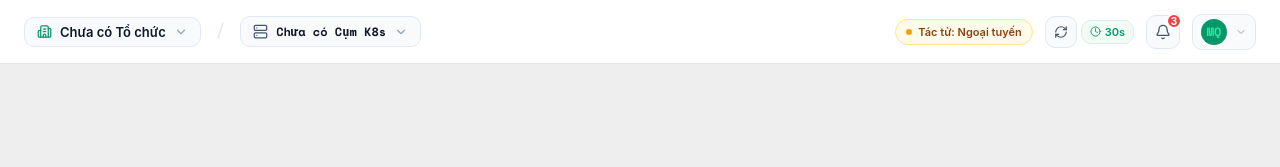
TASK [S2][PB07] 3.1 — Organization Switcher Suite › 3. TopHeader Dropdown UI & Keyboard (Phase 2) › 3.2. Closes dropdown when Escape key is pressed
Click the button with aria-label "Chọn tổ chức" at (112, 32), box top-left (24, 16), bottom-right (201, 46)
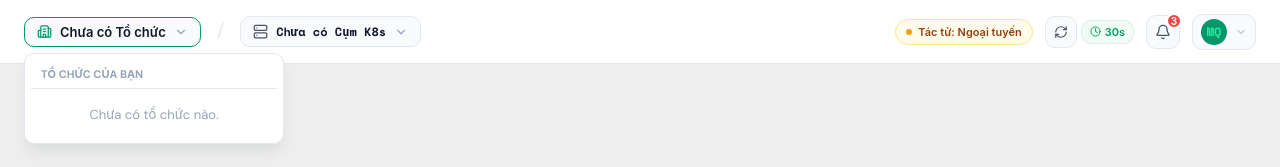
Now the list is shown, box top-left (24, 52), bottom-right (284, 144)
Press Escape in the button with aria-label "Chọn tổ chức", box top-left (24, 16), bottom-right (201, 46)
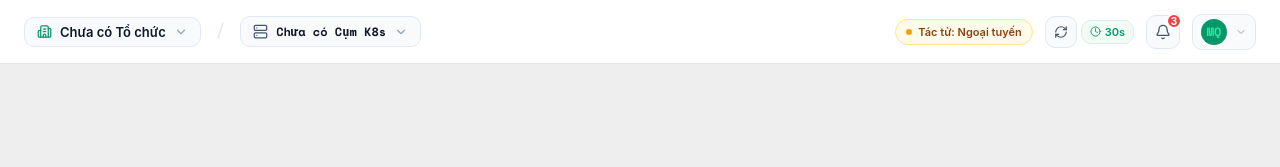
Now the list is gone
